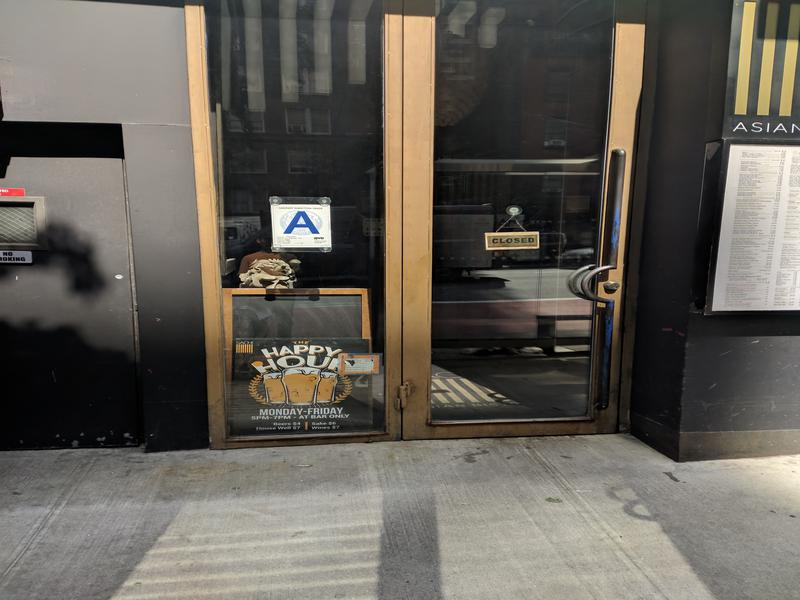door: (411, 8, 641, 443)
